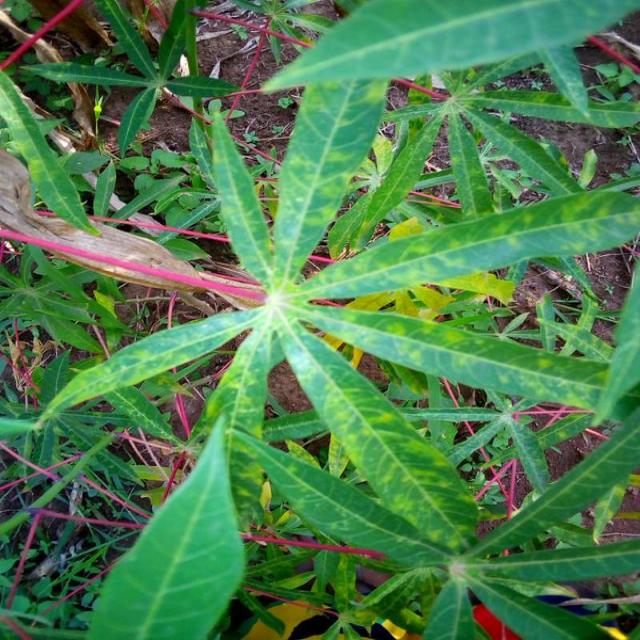cassava leaf: (19, 1, 638, 637), (86, 408, 246, 638)
